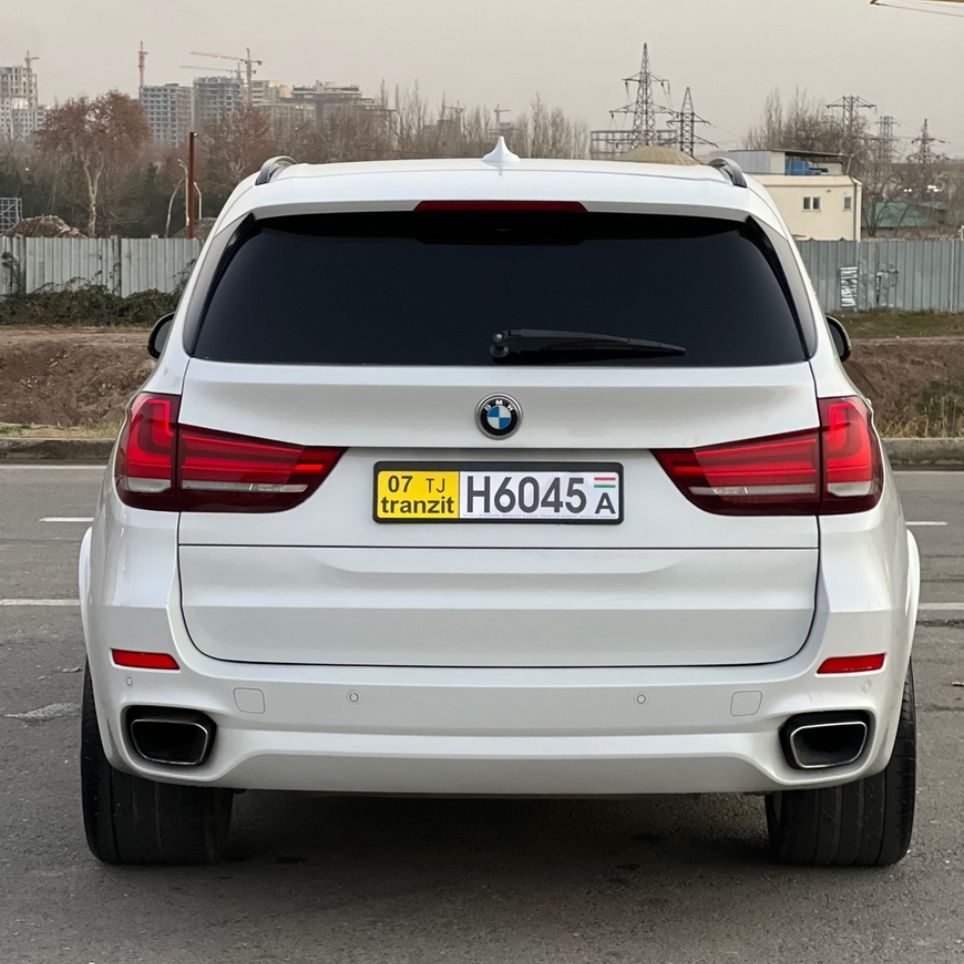license plate: (373, 465, 623, 524)
truck: (71, 138, 924, 891)
